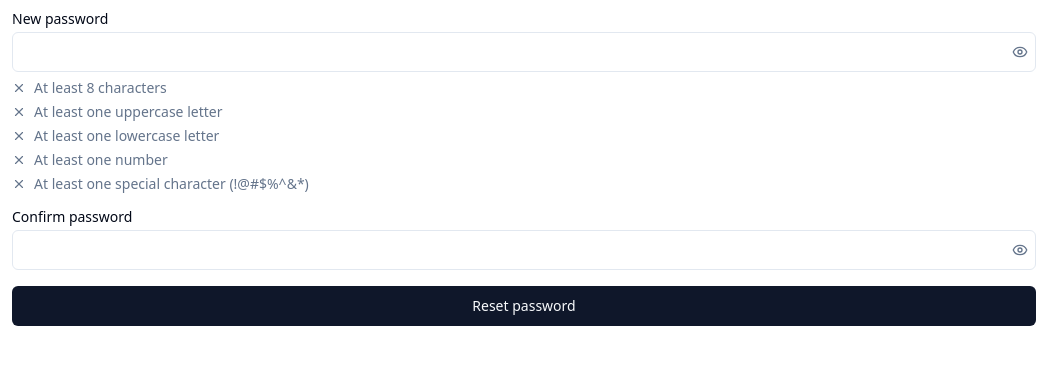
Test case: ResetPasswordForm › shows a banner for an expired reset token (410)
Type "Password1!" into the password field labelled "New password" at point(524, 52), box [12,32,1036,72]
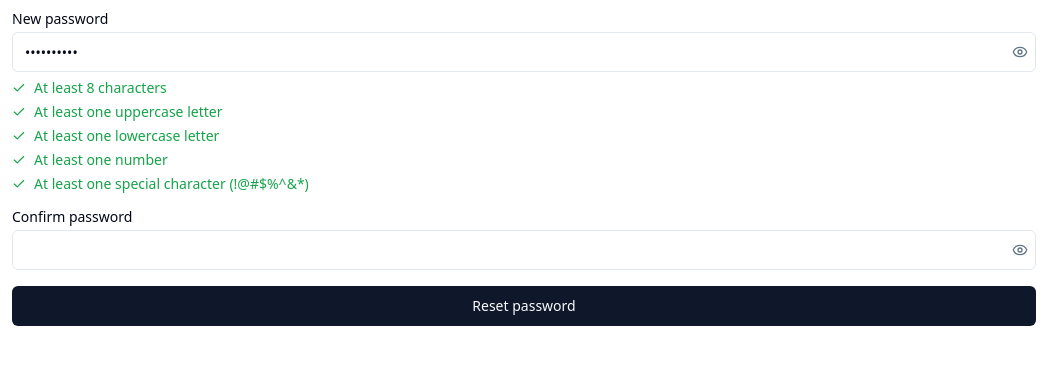
Type "Password1!" into the password field labelled "Confirm password" at point(524, 250), box [12,230,1036,270]
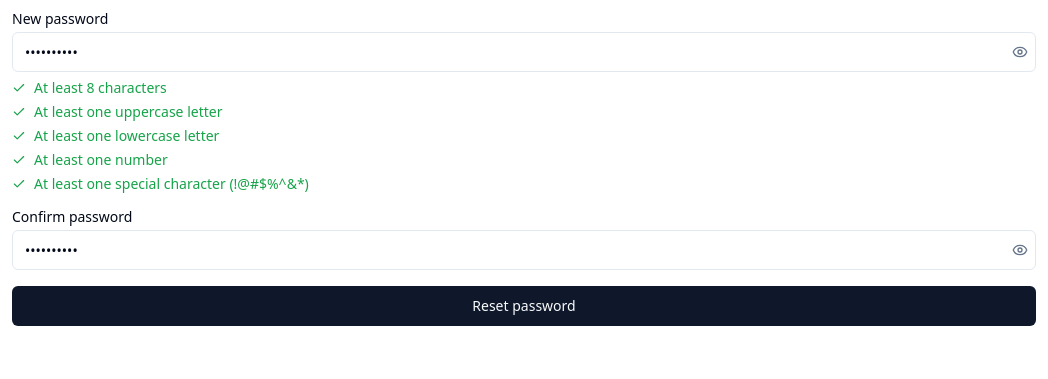
Click the button "Reset password" at point(524, 306), box [12,286,1036,326]
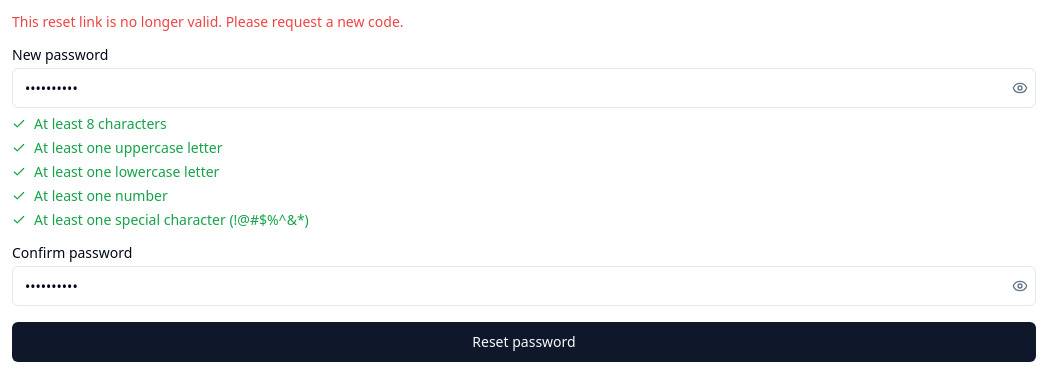
Check: the text "This reset link is no longer valid. Please request a new code." is shown, box [12,12,404,31]
